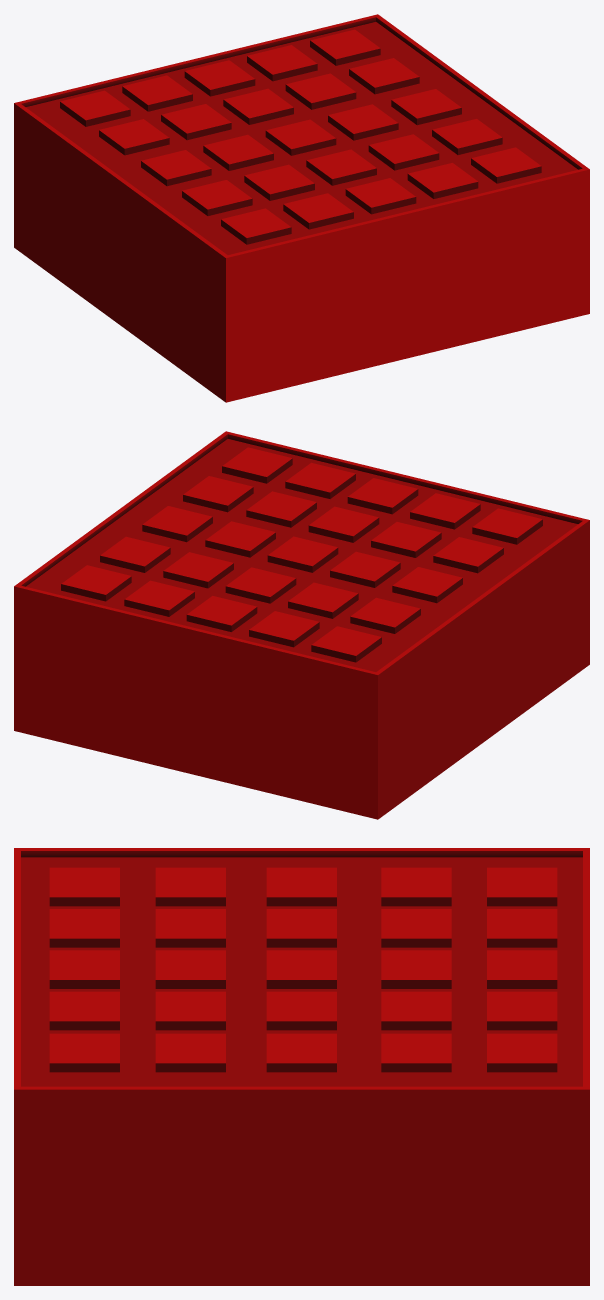
File: buildings-industrial-smallindustrialstructure_v2.fbx
3 renders of one model, top to bottom at view 1: azimuth 30°, elevation 25°; view 2: azimuth 150°, elevation 25°; view 3: azimuth 270°, elevation 25°, orthographic. The views are drawn at different scales.
Parts seen in each view (by area): view 1: SmallIndustrialStructure_v2; view 2: SmallIndustrialStructure_v2; view 3: SmallIndustrialStructure_v2.
Part boxes in pixels (x1,y1,x2,y2): SmallIndustrialStructure_v2: [14, 14, 589, 402]; SmallIndustrialStructure_v2: [14, 431, 589, 819]; SmallIndustrialStructure_v2: [14, 848, 589, 1285].
Size of the model in its own units: 10.75 by 4.14 by 10.84.
